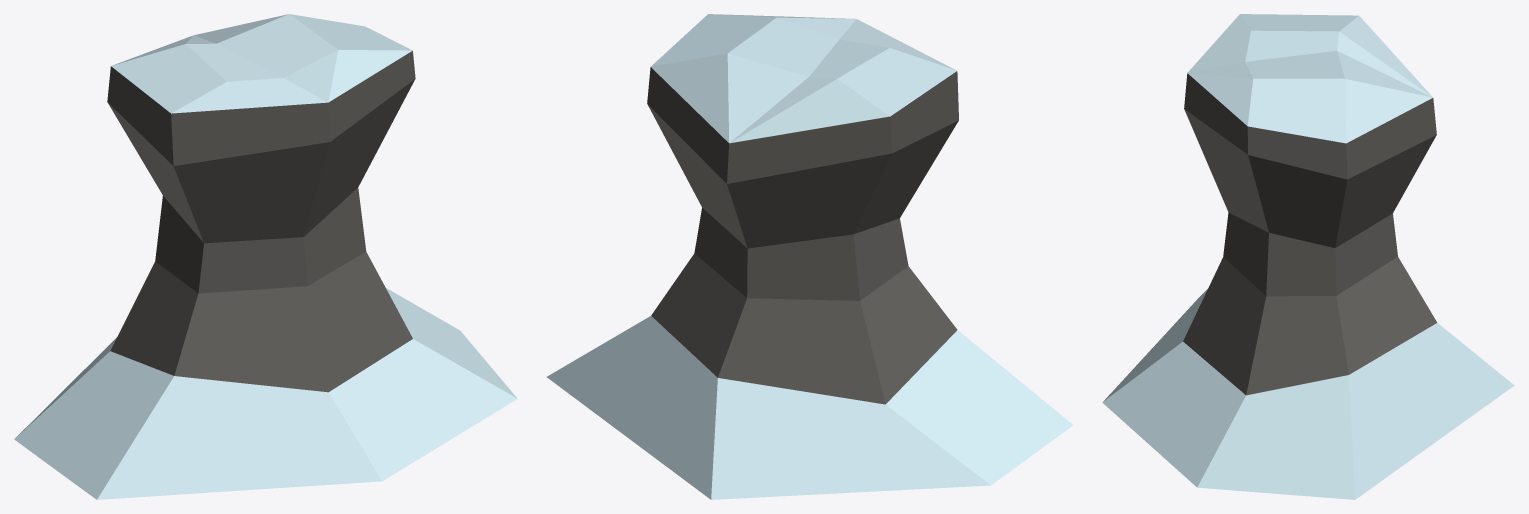
The model's file is SM_Env_Western_Butte_03_Snow.fbx.
3 renders of one model, left to right at view 1: azimuth 30°, elevation 25°; view 2: azimuth 150°, elevation 25°; view 3: azimuth 270°, elevation 25°, orthographic. The views are drawn at different scales.
Visible parts, largest first — view 1: SM_Env_Western_Butte_03_Snow; view 2: SM_Env_Western_Butte_03_Snow; view 3: SM_Env_Western_Butte_03_Snow.
Part boxes in pixels (x1=…): SM_Env_Western_Butte_03_Snow: x1=14, y1=14, x2=517, y2=499; SM_Env_Western_Butte_03_Snow: x1=547, y1=14, x2=1073, y2=499; SM_Env_Western_Butte_03_Snow: x1=1102, y1=14, x2=1514, y2=499.
Size of the model in its own units: 105 by 81.38 by 89.31.
1 material, 1 textured.
